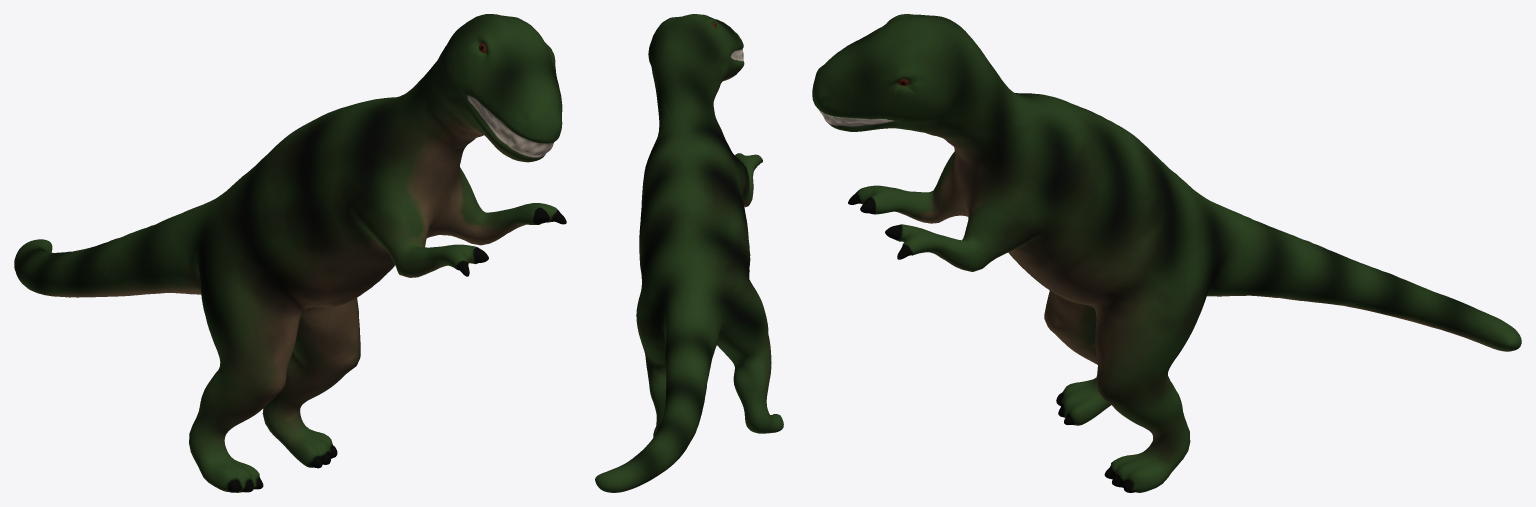
3 renders of one model, left to right at view 1: azimuth 30°, elevation 25°; view 2: azimuth 150°, elevation 25°; view 3: azimuth 270°, elevation 25°, orthographic. The views are drawn at different scales.
Parts seen in each view (by area): view 1: T-rex; view 2: T-rex; view 3: T-rex.
Boxes of the visible parts, x1=… form: T-rex: x1=14, y1=14, x2=566, y2=492; T-rex: x1=595, y1=14, x2=783, y2=492; T-rex: x1=812, y1=14, x2=1521, y2=492.
Bounding box in the file's own units: 0.705 × 1.18 × 1.5.
1 material, 1 textured.
